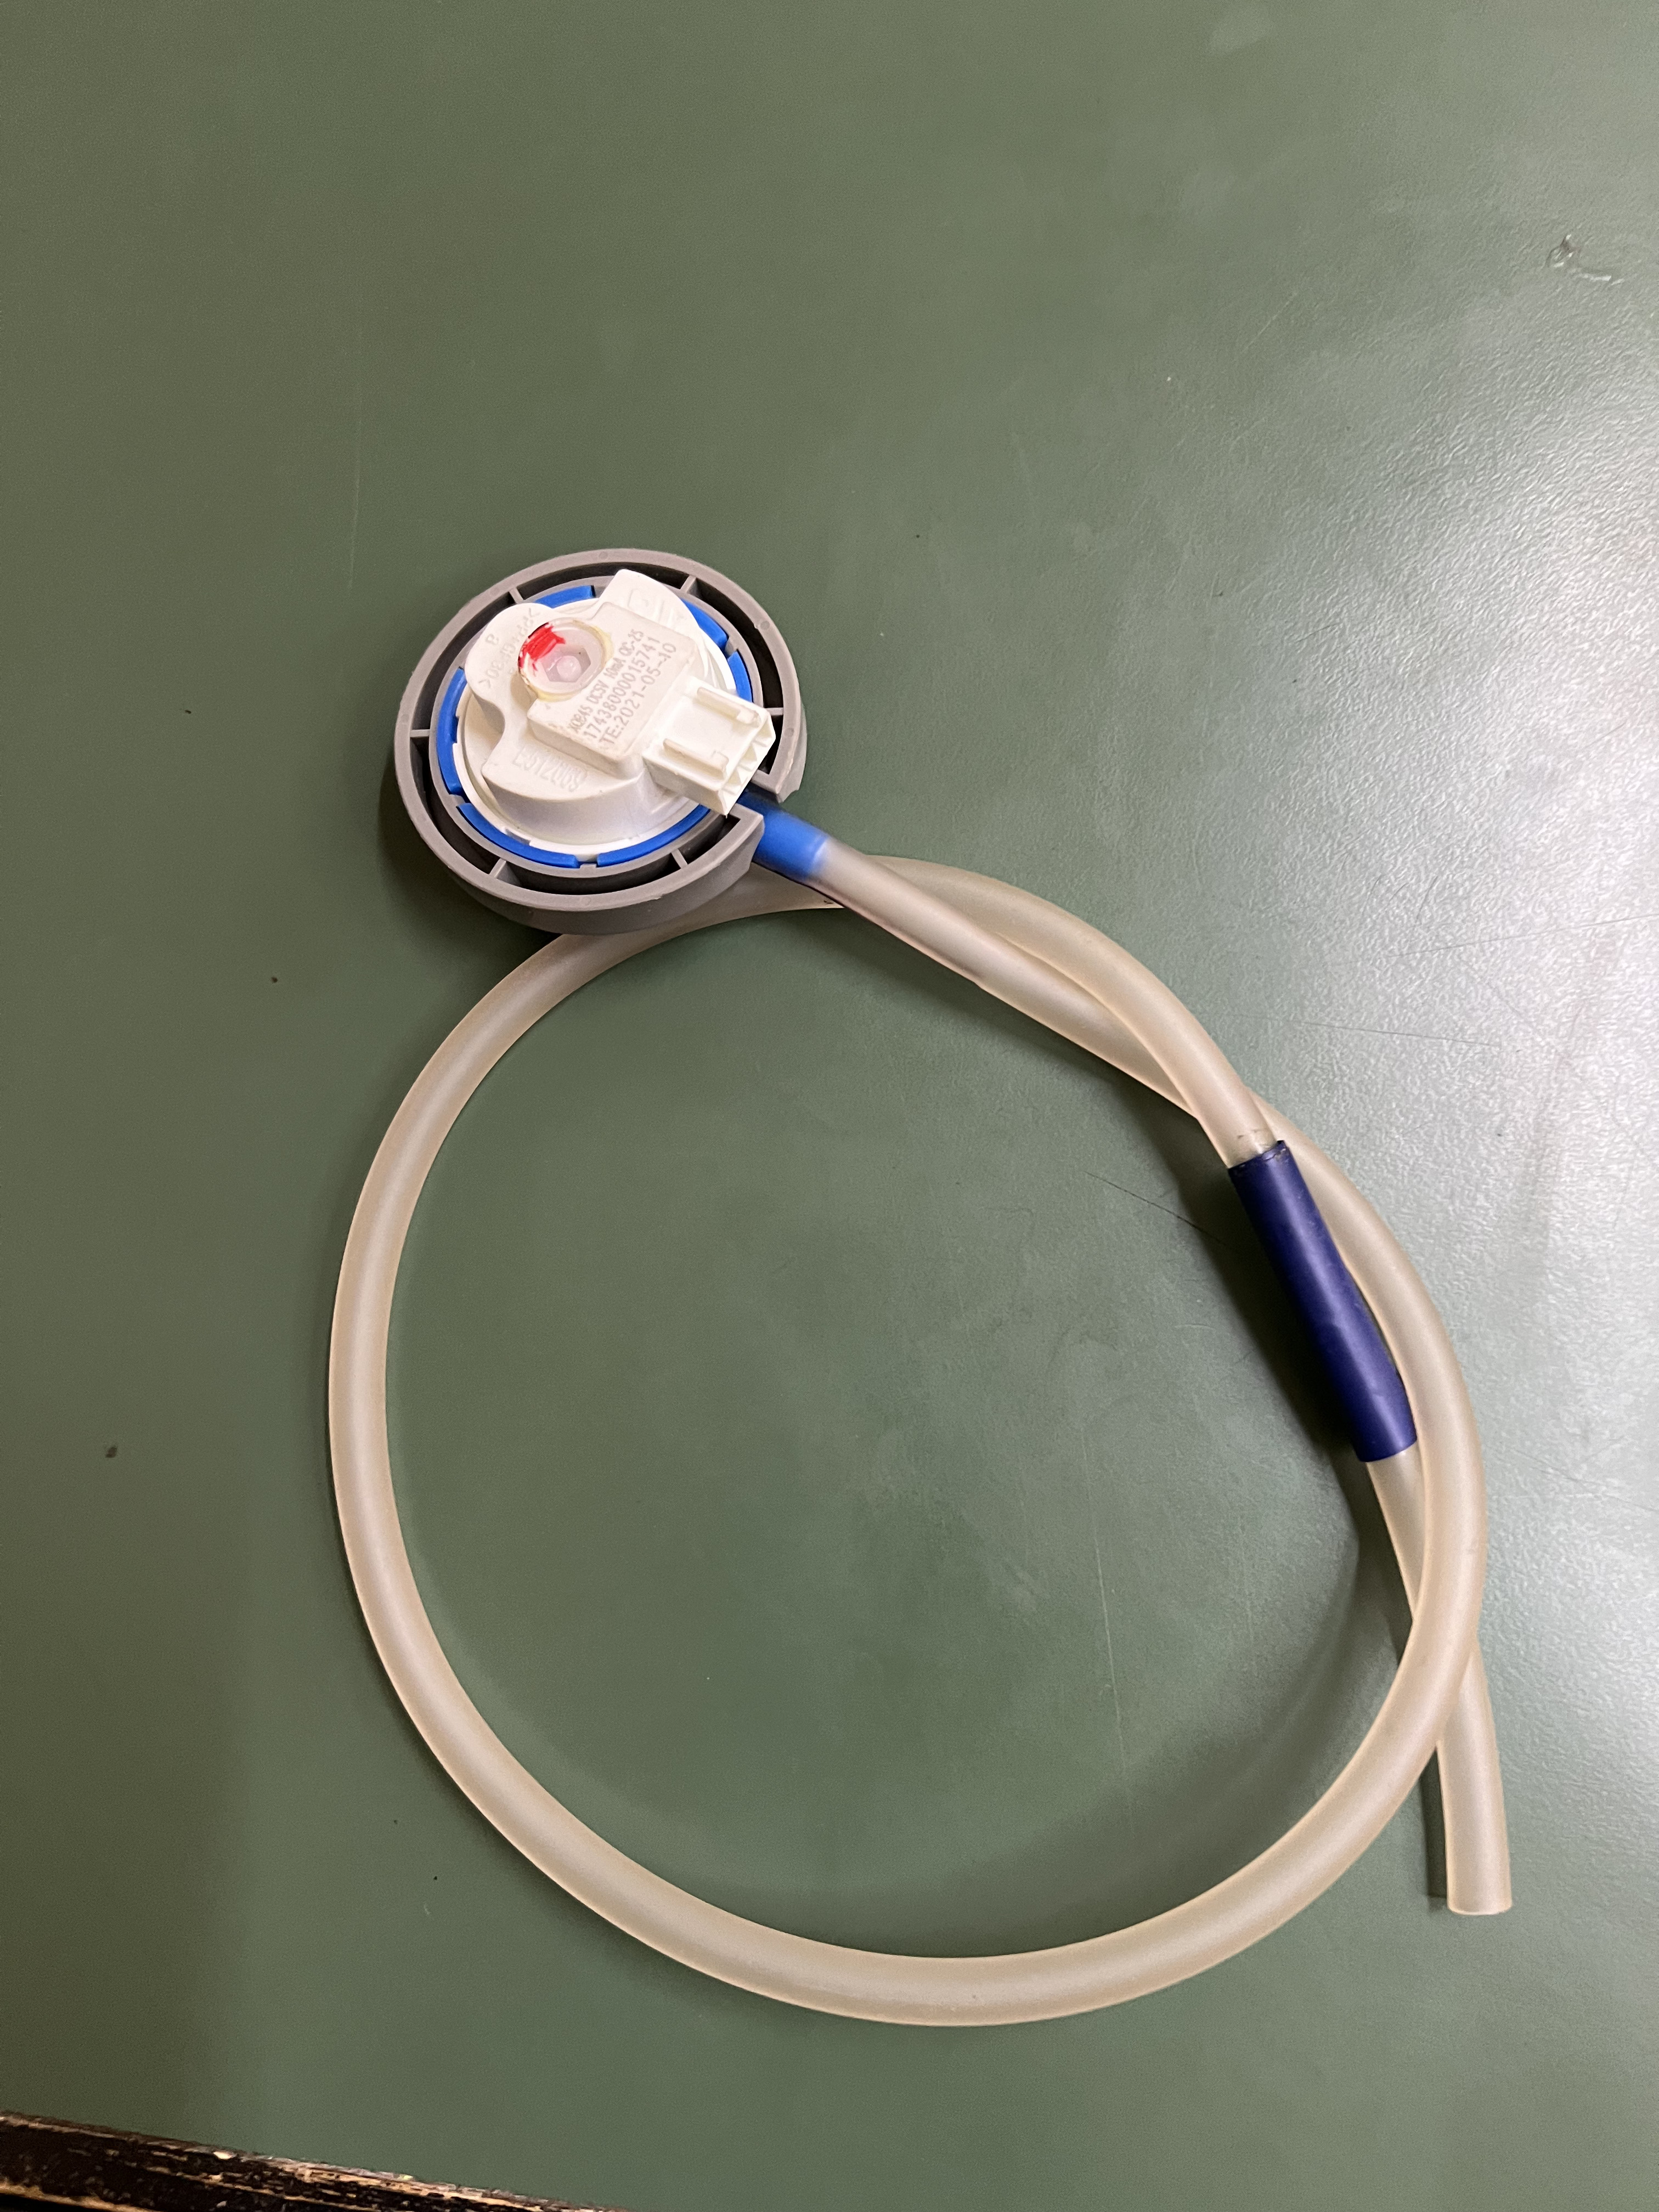pressure_sensor: (274, 543, 1577, 2012)
